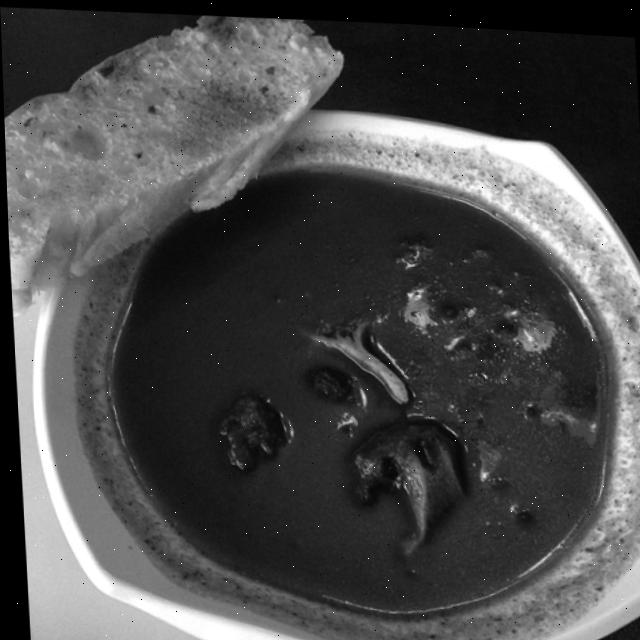汤锅炖物: (8, 14, 640, 640)
